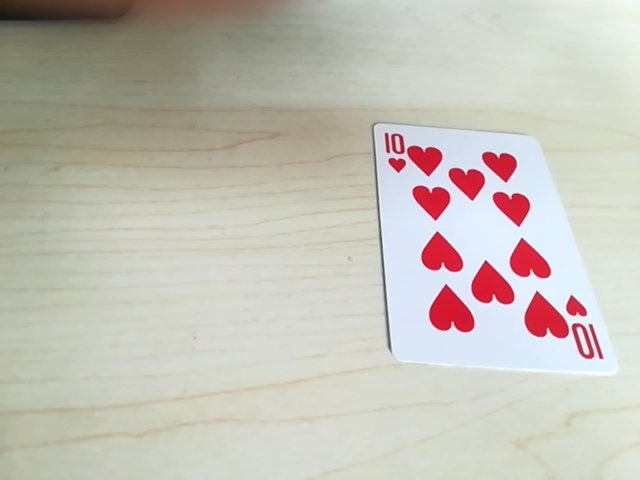hx 10: (559, 309, 602, 367), (382, 128, 418, 176)
